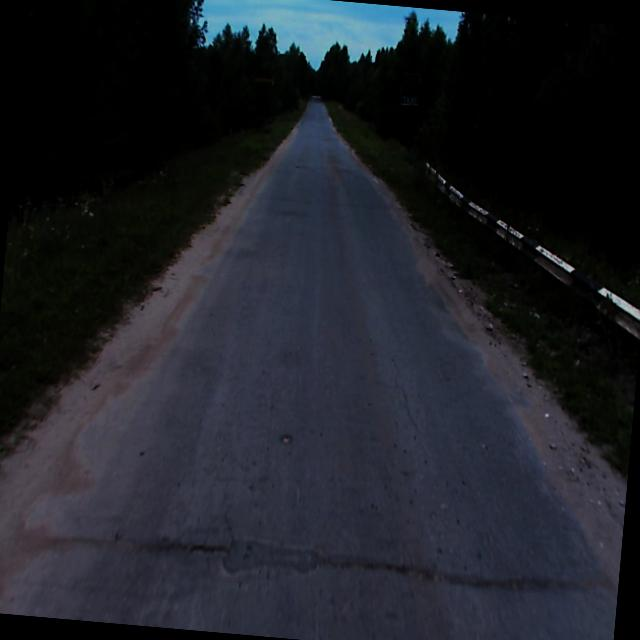road: (0, 94, 616, 640)
